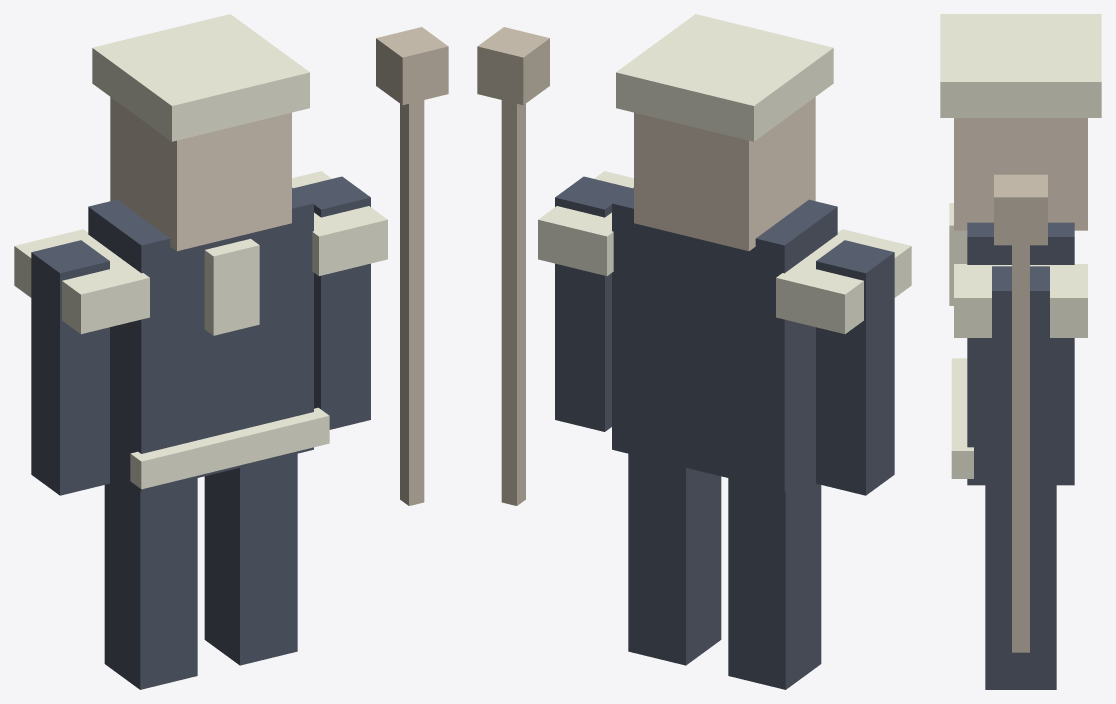
Rendered from 18_bex_emberkin_warden_of_power.glb.
3 views of the same model, side by side, from view 1: azimuth 30°, elevation 25°; view 2: azimuth 150°, elevation 25°; view 3: azimuth 270°, elevation 25° (orthographic).
Parts seen in each view (by area): view 1: Bex Emberkin, Warden of Power; view 2: Bex Emberkin, Warden of Power; view 3: Bex Emberkin, Warden of Power.
Boxes of the visible parts, bbox=[...] form: Bex Emberkin, Warden of Power: bbox=[14, 14, 448, 689]; Bex Emberkin, Warden of Power: bbox=[477, 14, 911, 689]; Bex Emberkin, Warden of Power: bbox=[940, 14, 1101, 689].
Size of the model in its own units: 1.04 by 1.52 by 0.3673.
